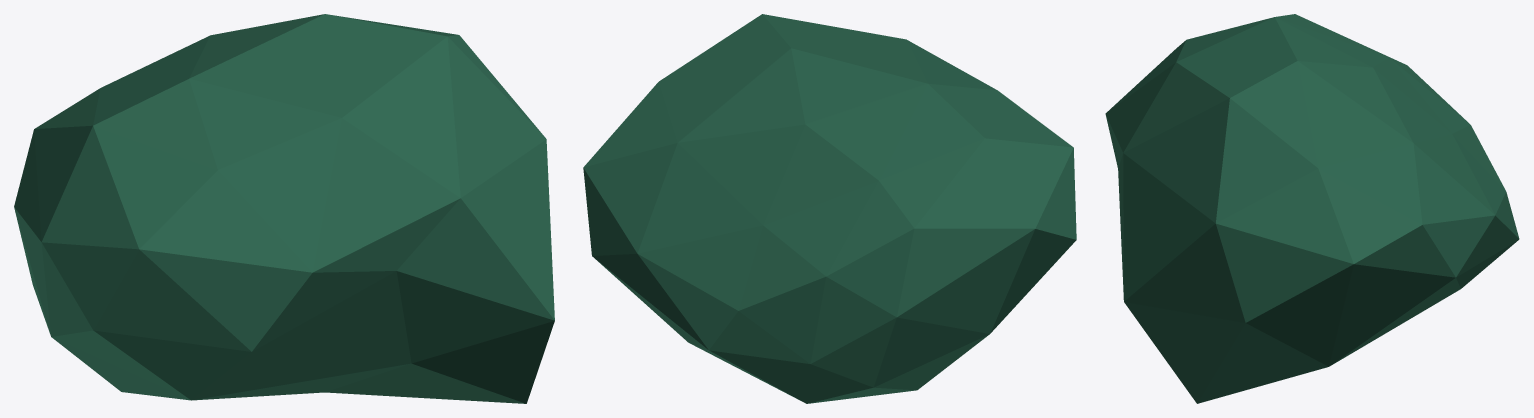
File: bush_2.FBX
3 views of the same model, side by side, from view 1: azimuth 30°, elevation 25°; view 2: azimuth 150°, elevation 25°; view 3: azimuth 270°, elevation 25° (orthographic). The views are drawn at different scales.
Parts seen in each view (by area): view 1: bush_2; view 2: bush_2; view 3: bush_2.
Boxes of the visible parts, bbox=[...] form: bush_2: bbox=[14, 14, 554, 403]; bush_2: bbox=[583, 14, 1076, 403]; bush_2: bbox=[1105, 14, 1519, 403].
Bounding box in the file's own units: 0.6111 × 0.4414 × 0.5685.
Materials: 1 (1 with a texture image).
